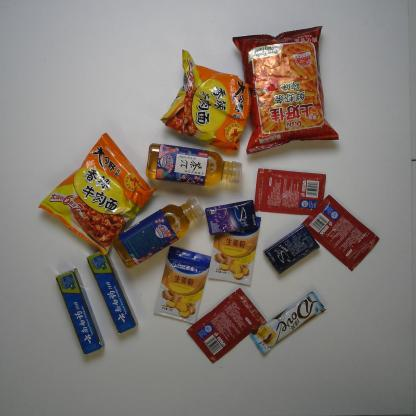Chocolate: (249, 290, 328, 356)
Drink: (111, 195, 207, 270), (144, 141, 244, 189)
Gum: (261, 223, 322, 275), (204, 198, 260, 237)
Instant Noodles: (37, 132, 159, 258), (158, 48, 255, 155)
Personal Hygiene: (53, 267, 106, 357), (86, 248, 140, 335)
Puffed Food: (230, 24, 342, 156)
Seasoner: (184, 286, 269, 365), (298, 193, 382, 272), (152, 245, 213, 325), (206, 214, 264, 288), (252, 167, 329, 216)
